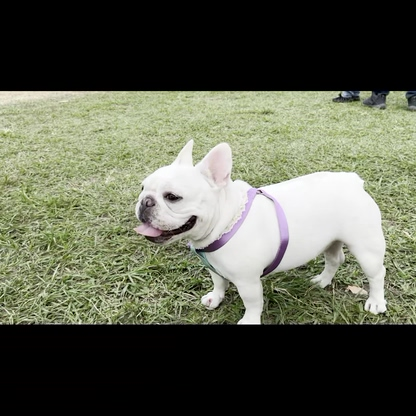bulldog: (130, 138, 391, 324)
